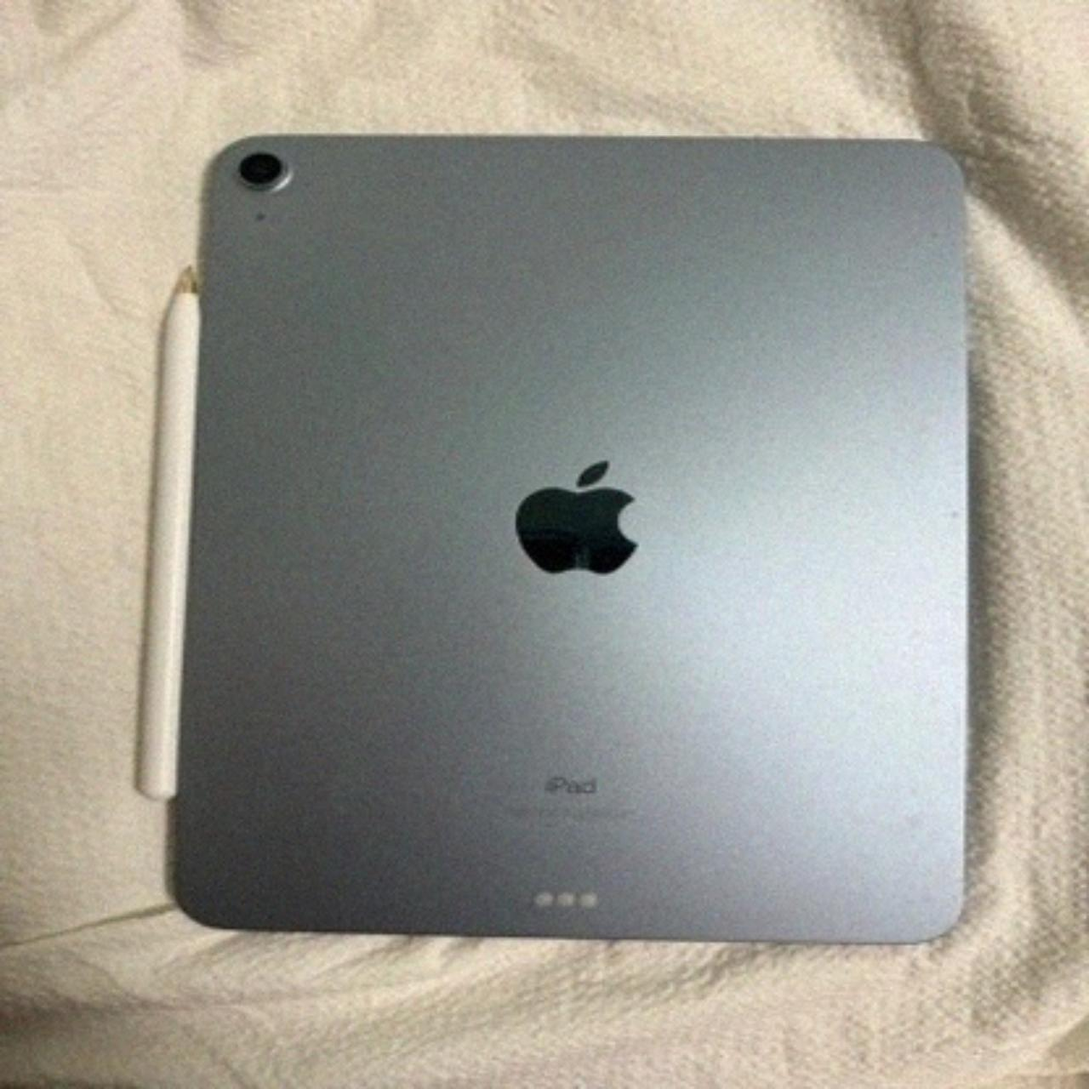Tablet_PC: (129, 123, 998, 979)
